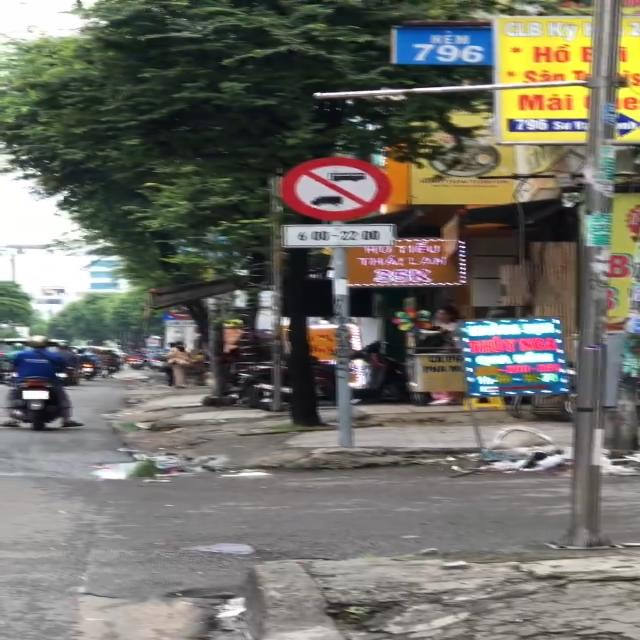Bien bao cam xe oto khach va xe oto tai: (268, 152, 403, 222)
